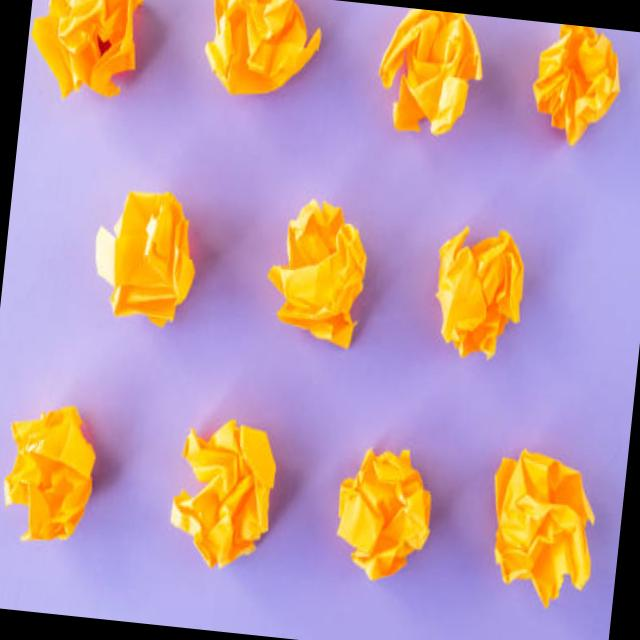electronic: (480, 443, 602, 612), (164, 411, 280, 574), (260, 192, 372, 351), (86, 181, 202, 329), (329, 439, 437, 586), (372, 5, 488, 140), (0, 396, 100, 547), (426, 220, 530, 364), (526, 21, 626, 150), (198, 0, 324, 102), (23, 0, 145, 104)
